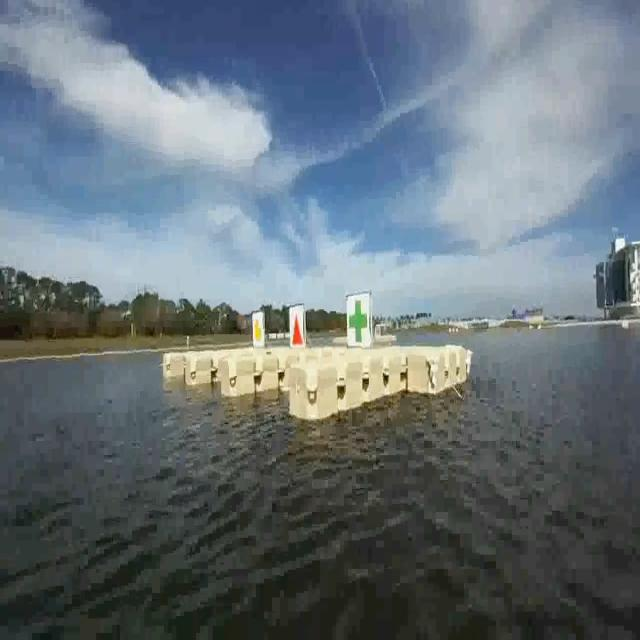blue-cross: (345, 296, 370, 351)
red-dot: (291, 314, 303, 346)
yellow-duck: (253, 309, 267, 352)
